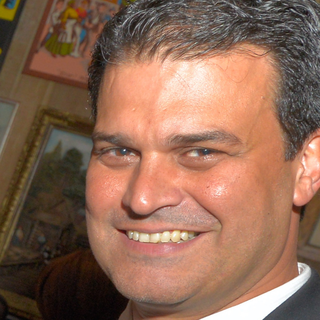eye: (177, 142, 228, 166), (97, 140, 142, 165)
